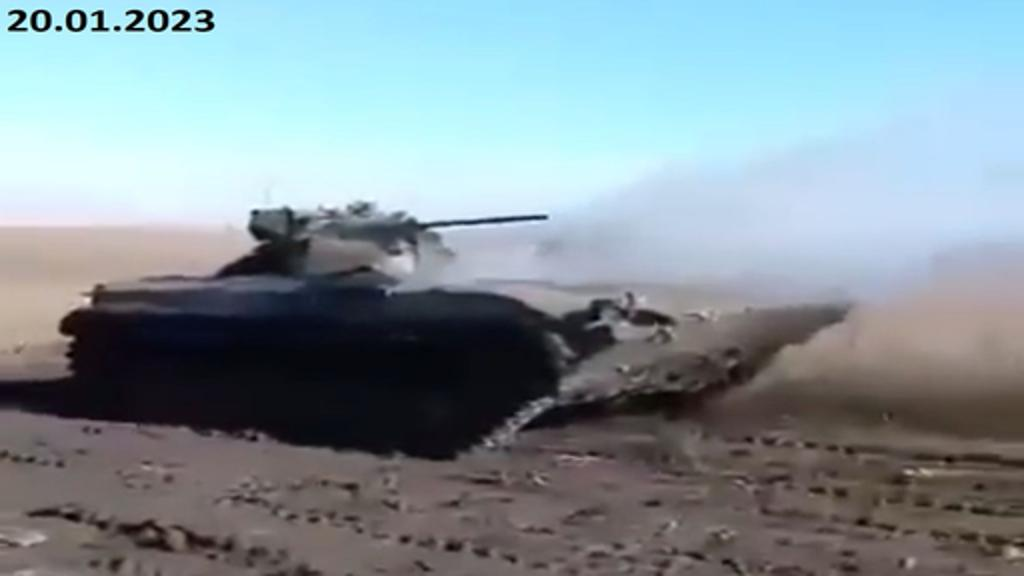APC-IFV: (54, 164, 860, 460)
